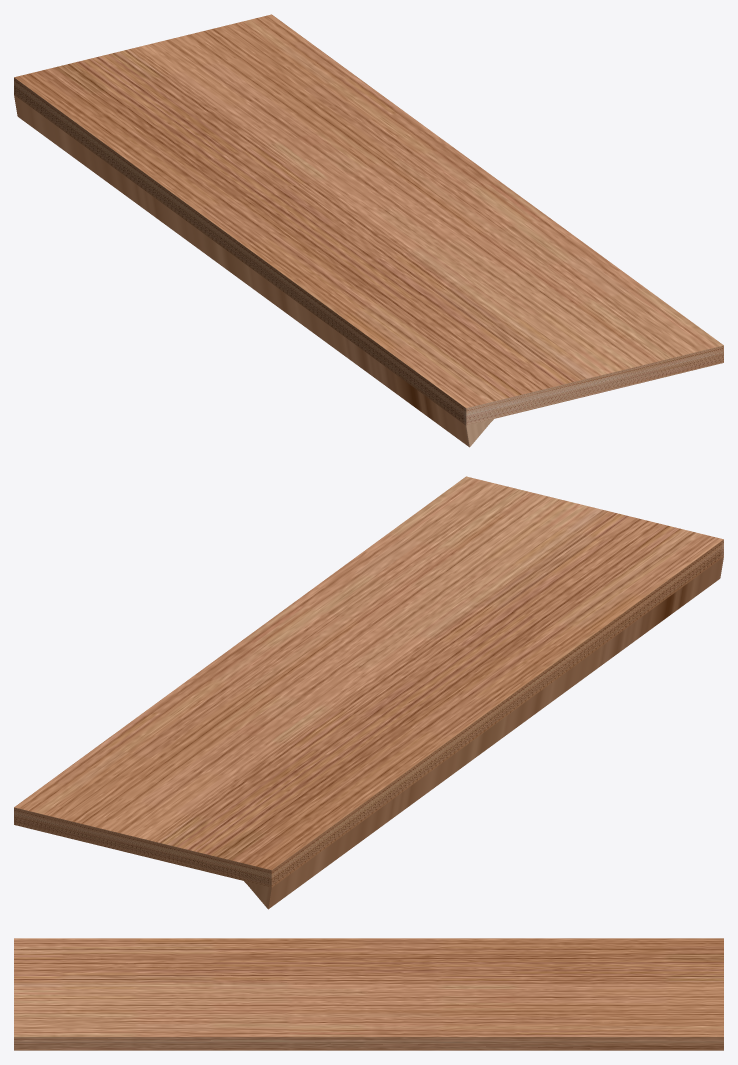
The model's file is Polka.glb.
3 views of the same model, one above another, from view 1: azimuth 30°, elevation 25°; view 2: azimuth 150°, elevation 25°; view 3: azimuth 270°, elevation 25° (orthographic). The views are drawn at different scales.
Parts seen in each view (by area): view 1: Cube.013; view 2: Cube.013; view 3: Cube.013.
Part boxes in pixels (bbox=[...]): Cube.013: bbox=[14, 14, 723, 447]; Cube.013: bbox=[14, 476, 723, 909]; Cube.013: bbox=[14, 938, 723, 1050].
Size of the model in its own units: 0.6584 by 0.098 by 2.
Materials: 2 (1 with a texture image).
